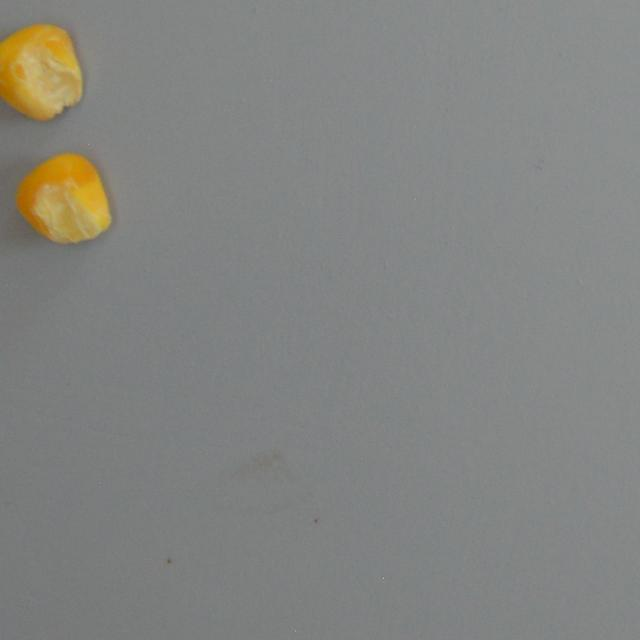no_desgerminado: (12, 148, 114, 249), (0, 18, 84, 124)
